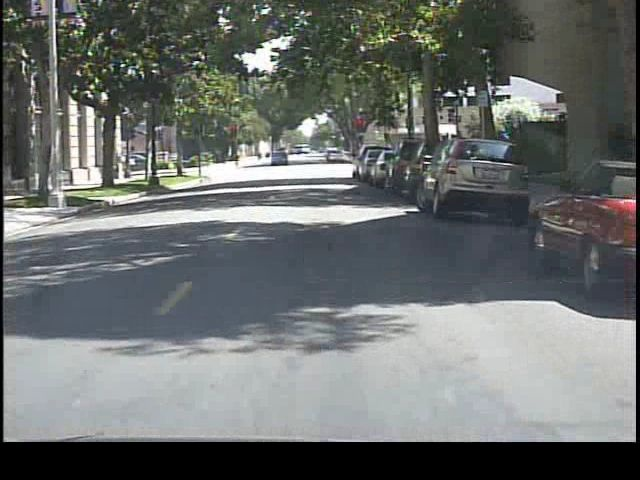person: (231, 141, 245, 169)
